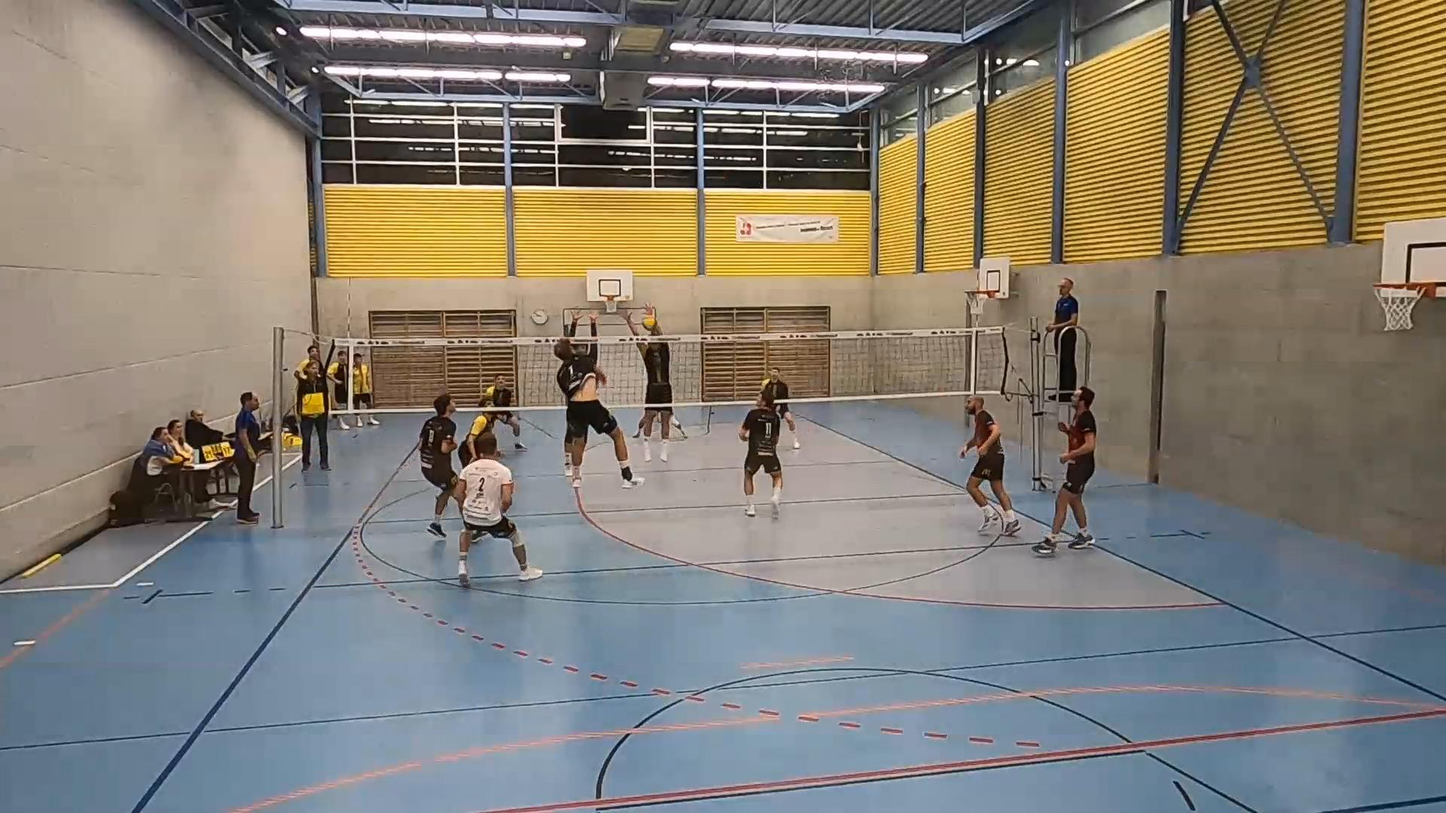Attack: (549, 332, 634, 486)
Block: (623, 296, 682, 469), (555, 301, 608, 369)
Player: (456, 434, 542, 586), (1032, 388, 1096, 555), (960, 395, 1020, 535), (739, 392, 782, 519), (419, 394, 456, 537), (761, 368, 800, 449), (458, 412, 497, 467), (491, 411, 526, 449)
ball: (640, 314, 659, 332)
